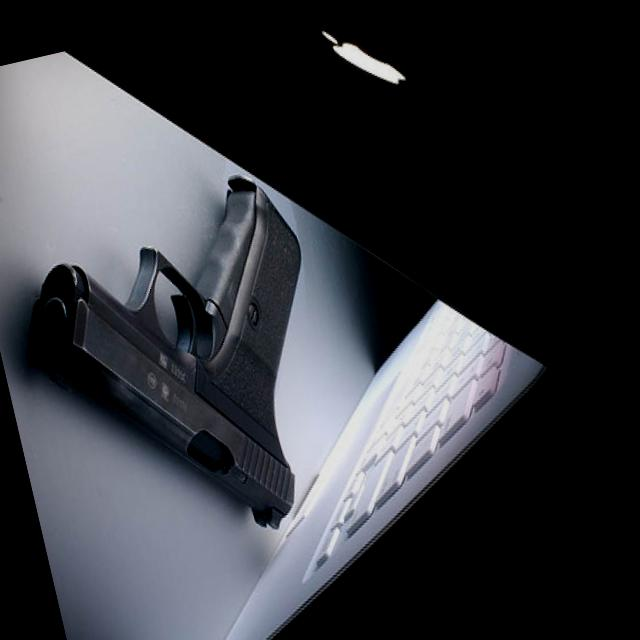handgun: (1, 156, 364, 574)
